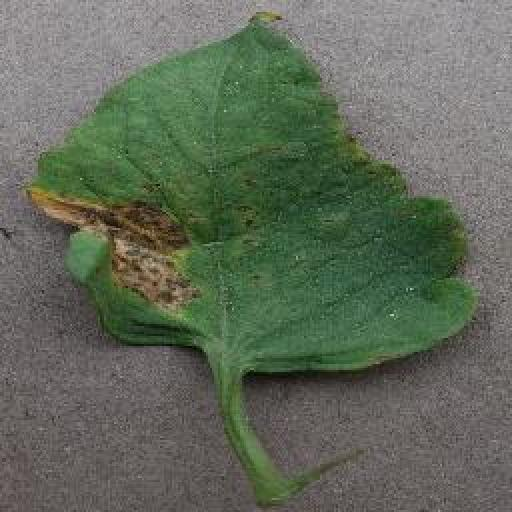Bacterial Spot: (20, 6, 483, 382)
